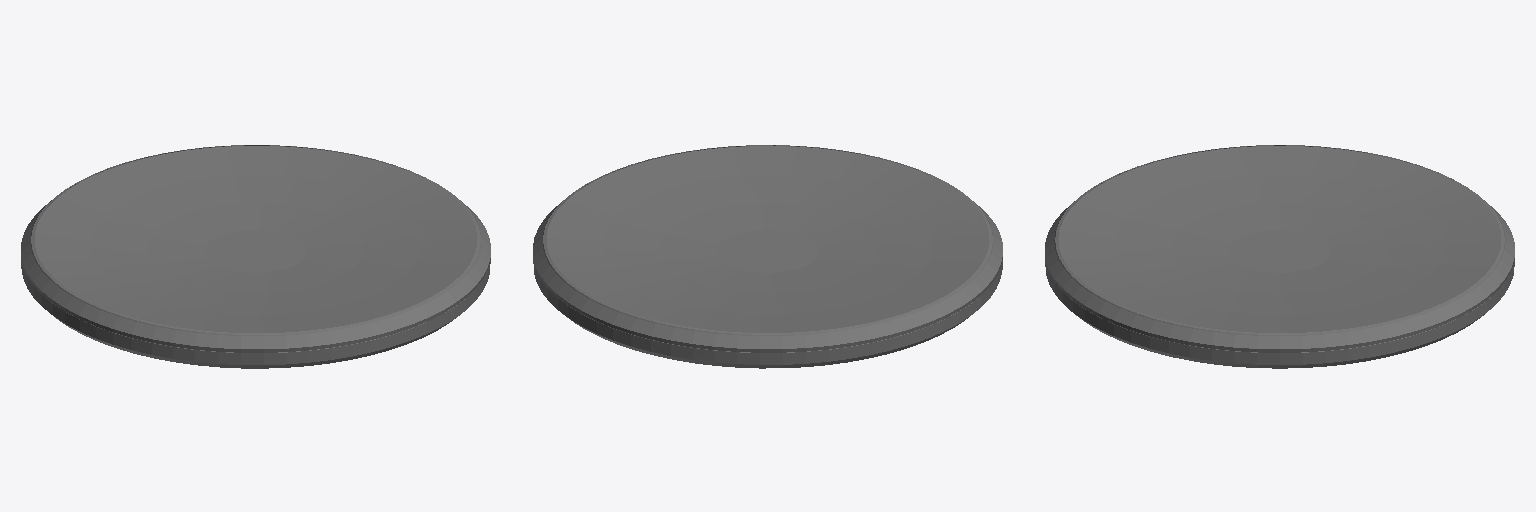
File: ControllerPad_Generic.obj
3 renders of one model, left to right at view 1: azimuth 30°, elevation 25°; view 2: azimuth 150°, elevation 25°; view 3: azimuth 270°, elevation 25°, orthographic.
Visible parts, largest first — view 1: ControllerPad_Generic2, ControllerPad_Generic1; view 2: ControllerPad_Generic2, ControllerPad_Generic1; view 3: ControllerPad_Generic2, ControllerPad_Generic1.
Boxes of the visible parts, x1=… form: ControllerPad_Generic2: x1=21, y1=146, x2=490, y2=368; ControllerPad_Generic1: x1=21, y1=145, x2=490, y2=352; ControllerPad_Generic2: x1=533, y1=146, x2=1002, y2=368; ControllerPad_Generic1: x1=533, y1=145, x2=1002, y2=352; ControllerPad_Generic2: x1=1045, y1=146, x2=1514, y2=368; ControllerPad_Generic1: x1=1045, y1=145, x2=1514, y2=352.
Bounding box in the file's own units: 0.3981 × 0.0309 × 0.3981.